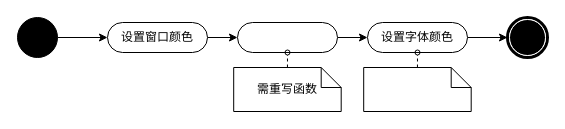
Image size: 565x129. Some labels were removed from this diagram. Each missing label, with the centre of its shape:
即前景颜色: the point at 417,89
设置面板颜色: the point at 287,37
